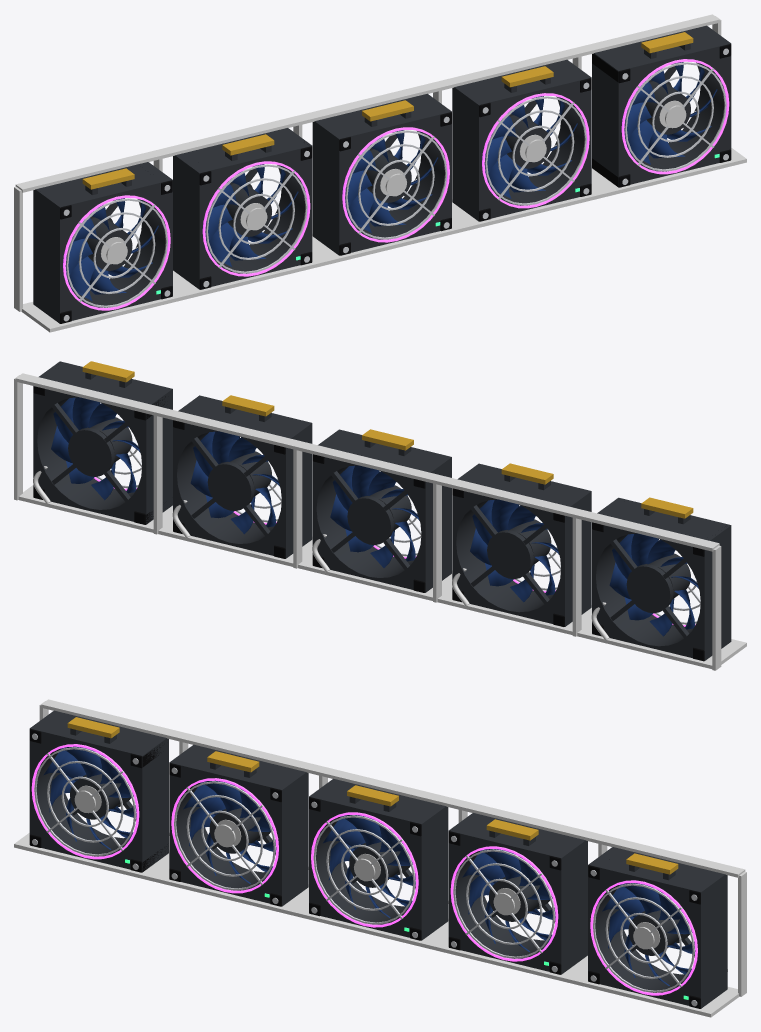
Rendered from hwm_cool_hotswap_fans.glb.
3 views of the same model, one above another, from view 1: azimuth 30°, elevation 25°; view 2: azimuth 150°, elevation 25°; view 3: azimuth 330°, elevation 25° (orthographic).
Visible parts, largest first — view 1: Body, Rotor_Z_2, Rotor_Z_0, Rotor_Z_3, Rotor_Z_4, Rotor_Z_1; view 2: Body, Rotor_Z_4, Rotor_Z_3, Rotor_Z_2, Rotor_Z_0, Rotor_Z_1; view 3: Body, Rotor_Z_4, Rotor_Z_3, Rotor_Z_2, Rotor_Z_0, Rotor_Z_1.
Part boxes in pixels (x1,y1,x2,y2): Body: (14, 14, 746, 332); Rotor_Z_2: (345, 130, 437, 232); Rotor_Z_0: (65, 198, 158, 301); Rotor_Z_3: (484, 96, 577, 198); Rotor_Z_4: (624, 62, 717, 164); Rotor_Z_1: (205, 164, 298, 266); Body: (14, 361, 746, 670); Rotor_Z_4: (51, 397, 140, 500); Rotor_Z_3: (190, 431, 279, 534); Rotor_Z_2: (330, 465, 419, 567); Rotor_Z_0: (609, 533, 698, 636); Rotor_Z_1: (470, 499, 559, 602); Body: (14, 699, 746, 1017); Rotor_Z_4: (602, 883, 695, 985); Rotor_Z_3: (462, 849, 555, 951); Rotor_Z_2: (323, 815, 415, 917); Rotor_Z_0: (43, 746, 136, 849); Rotor_Z_1: (183, 780, 276, 883).
Size of the model in its own units: 0.5778 by 0.1033 by 0.049.
